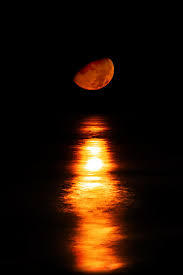moon: (63, 52, 116, 94)
